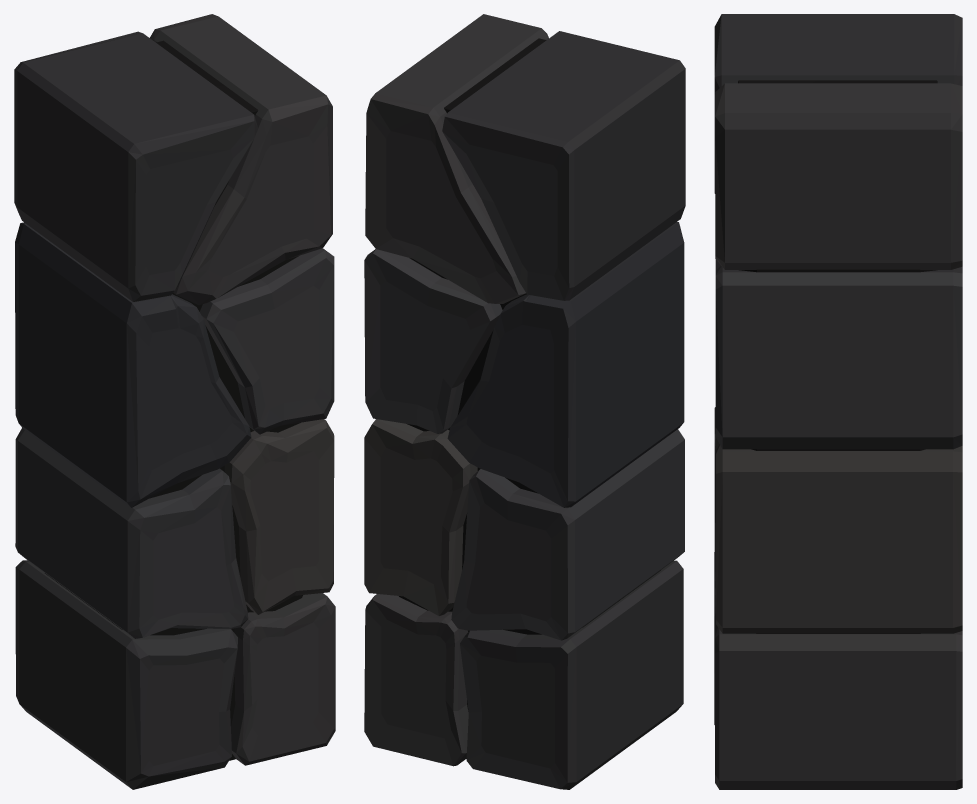
Rendered from Wall_Stone_C.fbx.
3 renders of one model, left to right at view 1: azimuth 30°, elevation 25°; view 2: azimuth 150°, elevation 25°; view 3: azimuth 270°, elevation 25°, orthographic. The views are drawn at different scales.
Parts seen in each view (by area): view 1: Wall_Stone_C; view 2: Wall_Stone_C; view 3: Wall_Stone_C.
Boxes of the visible parts, x1,y1,x2,y2 form: Wall_Stone_C: (14,14,335,789); Wall_Stone_C: (364,14,685,789); Wall_Stone_C: (714,14,962,789).
Bounding box in the file's own units: 1 × 3 × 0.9953.
Materials: 1 (1 with a texture image).
